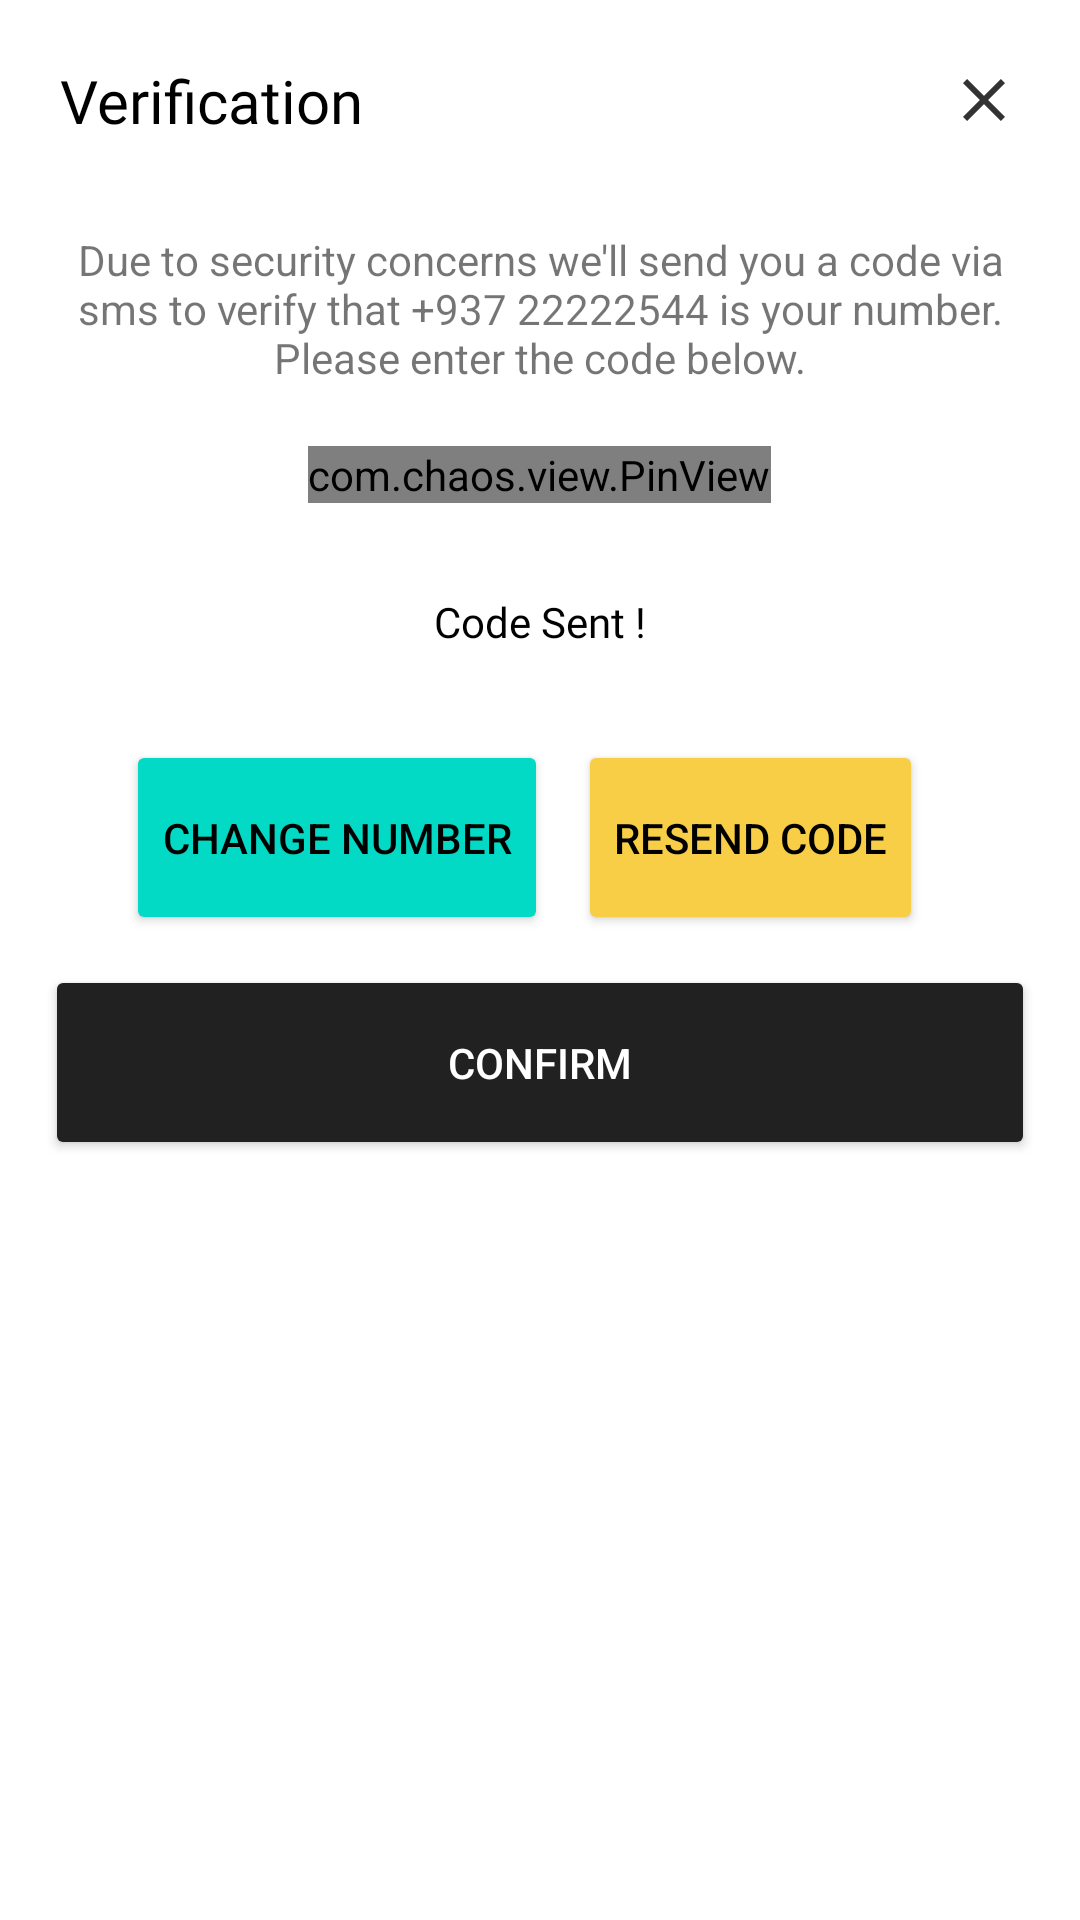

Icons on this 1080x1920 Android screen, each with its box as box=[x1, y1, x2, y2]:
close: box=[963, 79, 1005, 121]
